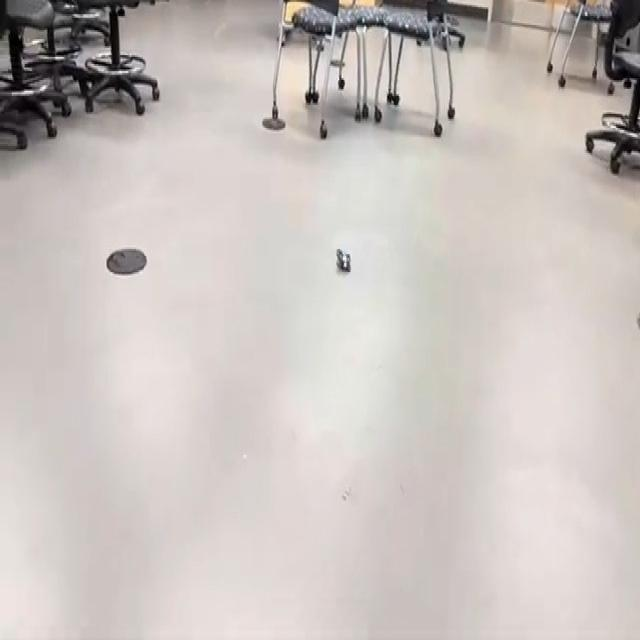drone: (328, 236, 358, 284)
